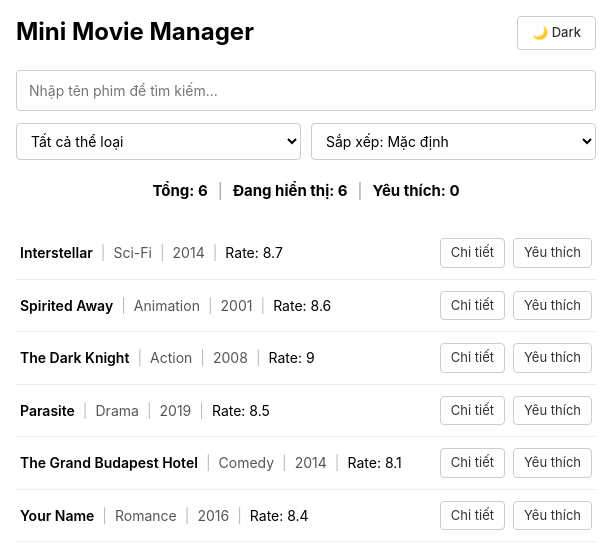
Test case: Mini Movie Manager App › filters movies by title search
The width and height of the screenshot is (613, 559).
Type "Interstellar" into the field with placeholder "Nhập tên phim để tìm kiếm..." at (306,90), box [16, 70, 596, 110]
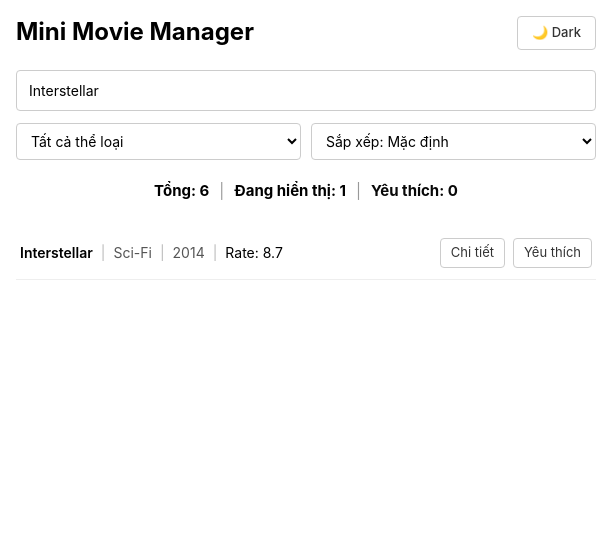
Expected: the text "Interstellar" is shown, [20, 242, 93, 263]
Expected: the text "Spirited Away" is gone
